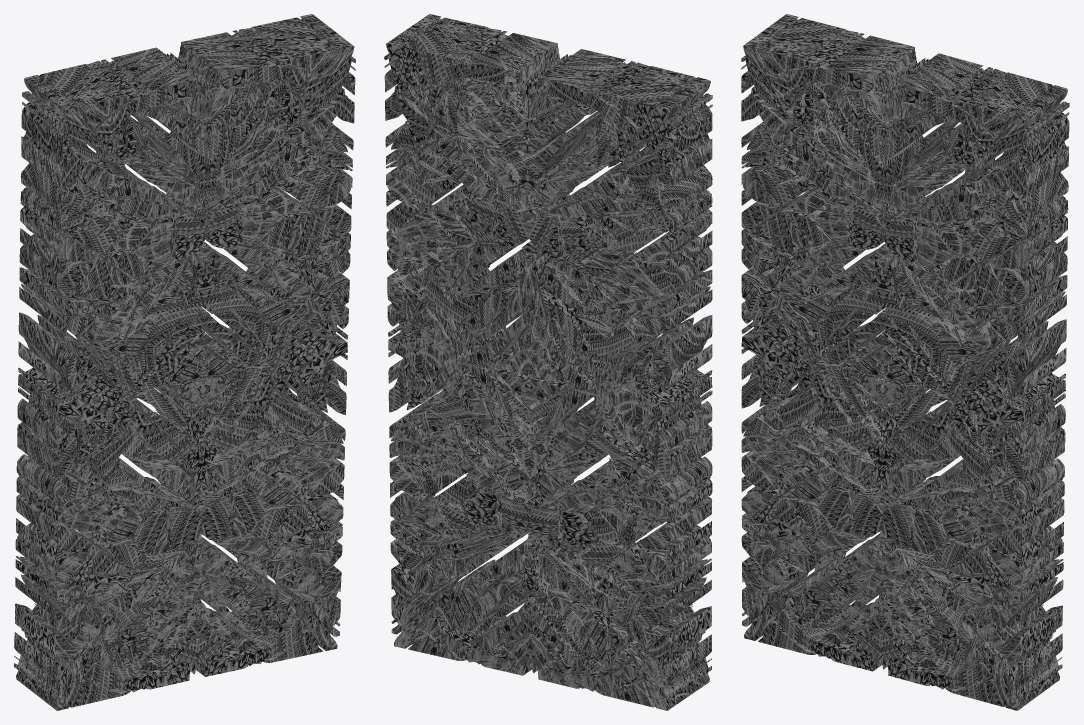
Rendered from silverpart1.glb.
The picture shows the model from 3 angles, left to right: view 1: azimuth 30°, elevation 25°; view 2: azimuth 150°, elevation 25°; view 3: azimuth 330°, elevation 25°; orthographic projection.
Parts seen in each view (by area): view 1: Selection.860, Selection.819; view 2: Selection.860, Selection.819; view 3: Selection.819, Selection.860.
Boxes of the visible parts, x1,y1,x2,y2 form: Selection.860: [14, 47, 208, 710]; Selection.819: [158, 14, 355, 676]; Selection.860: [528, 49, 712, 710]; Selection.819: [384, 14, 573, 675]; Selection.819: [878, 53, 1069, 710]; Selection.860: [741, 14, 925, 671].
Bounding box in the file's own units: 0.3604 × 0.7095 × 0.1028.
1 material, 1 textured.
